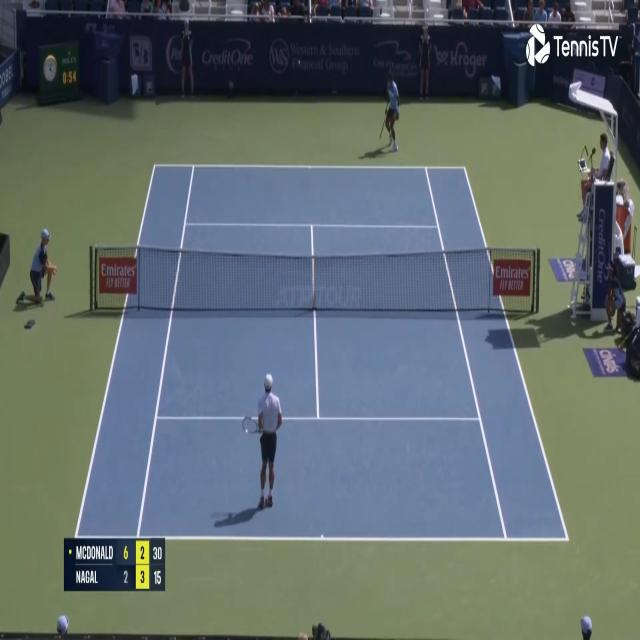tennis-player: (242, 371, 285, 512), (378, 67, 401, 154)
